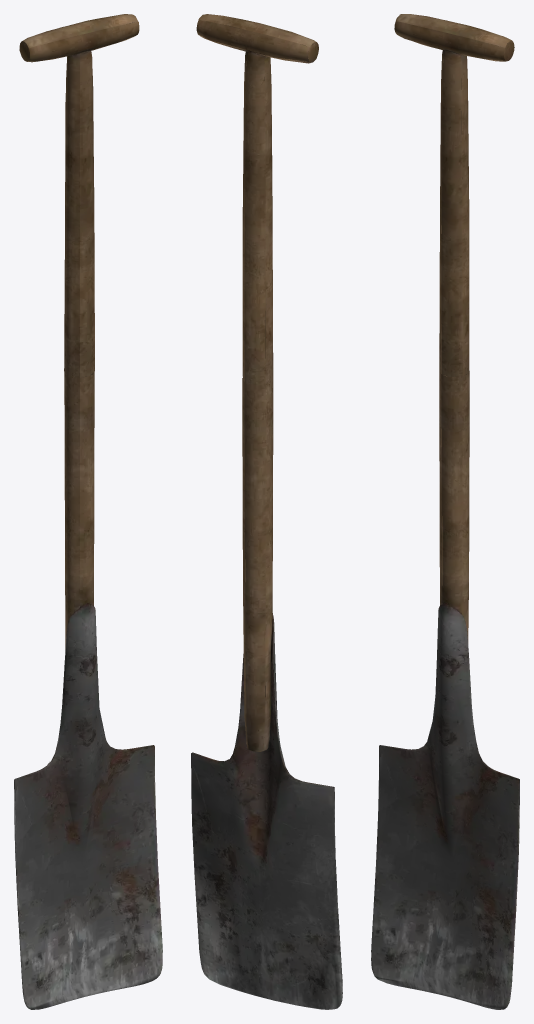
The model's file is rusted_spade_01.glb.
3 renders of one model, left to right at view 1: azimuth 30°, elevation 25°; view 2: azimuth 150°, elevation 25°; view 3: azimuth 330°, elevation 25°, orthographic. The views are drawn at different scales.
Parts seen in each view (by area): view 1: rusted_spade_01; view 2: rusted_spade_01; view 3: rusted_spade_01.
Part boxes in pixels (x1,y1,x2,y2): rusted_spade_01: [14, 14, 162, 1009]; rusted_spade_01: [191, 14, 342, 1009]; rusted_spade_01: [371, 14, 519, 1009].
Bounding box in the file's own units: 0.1681 × 1.1 × 0.0458.
1 material, 1 textured.
